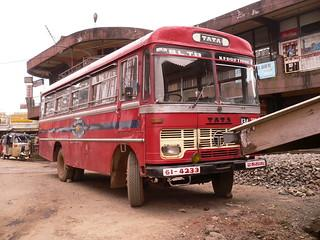bus: (36, 24, 266, 210)
